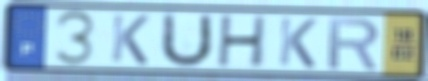3: (53, 9, 98, 68)
H: (214, 14, 270, 70)
K: (276, 15, 320, 70), (108, 12, 152, 67)
R: (326, 15, 383, 72)
U: (157, 10, 215, 70)
